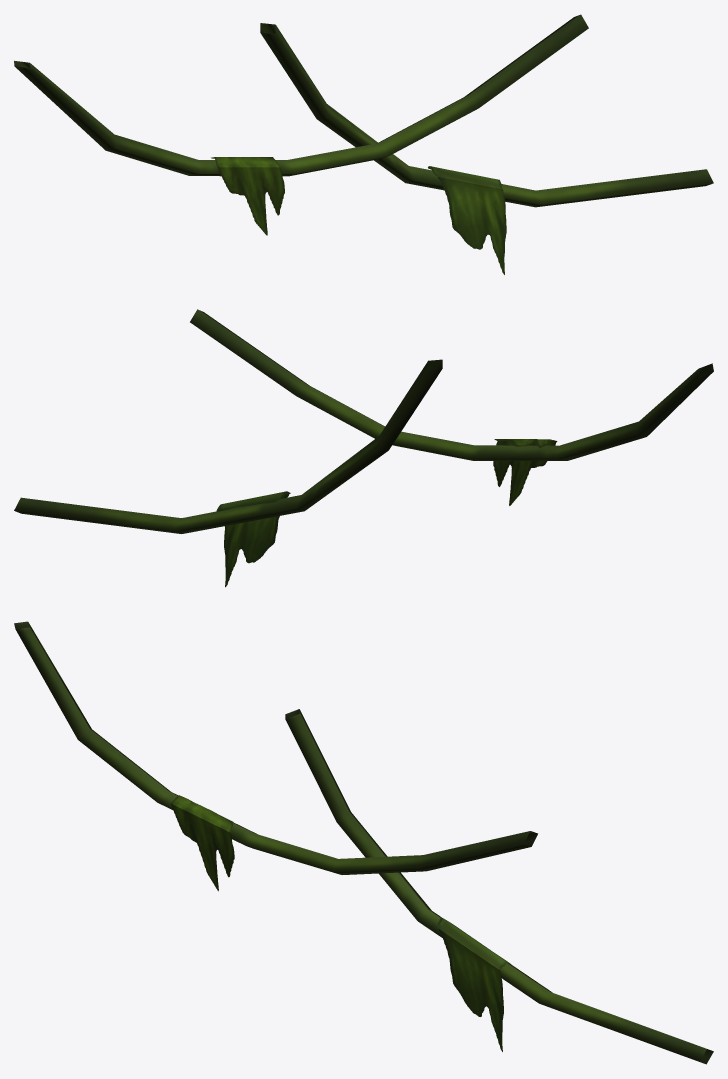
The model's file is Swamp_tengtiao02.FBX.
3 views of the same model, one above another, from view 1: azimuth 30°, elevation 25°; view 2: azimuth 150°, elevation 25°; view 3: azimuth 330°, elevation 25° (orthographic). The views are drawn at different scales.
Visible parts, largest first — view 1: tengtiao02; view 2: tengtiao02; view 3: tengtiao02.
Boxes of the visible parts, x1,y1,x2,y2 form: tengtiao02: (14, 14, 713, 274); tengtiao02: (14, 309, 713, 587); tengtiao02: (14, 621, 713, 1064).
Bounding box in the file's own units: 401 × 189 × 46.21.
